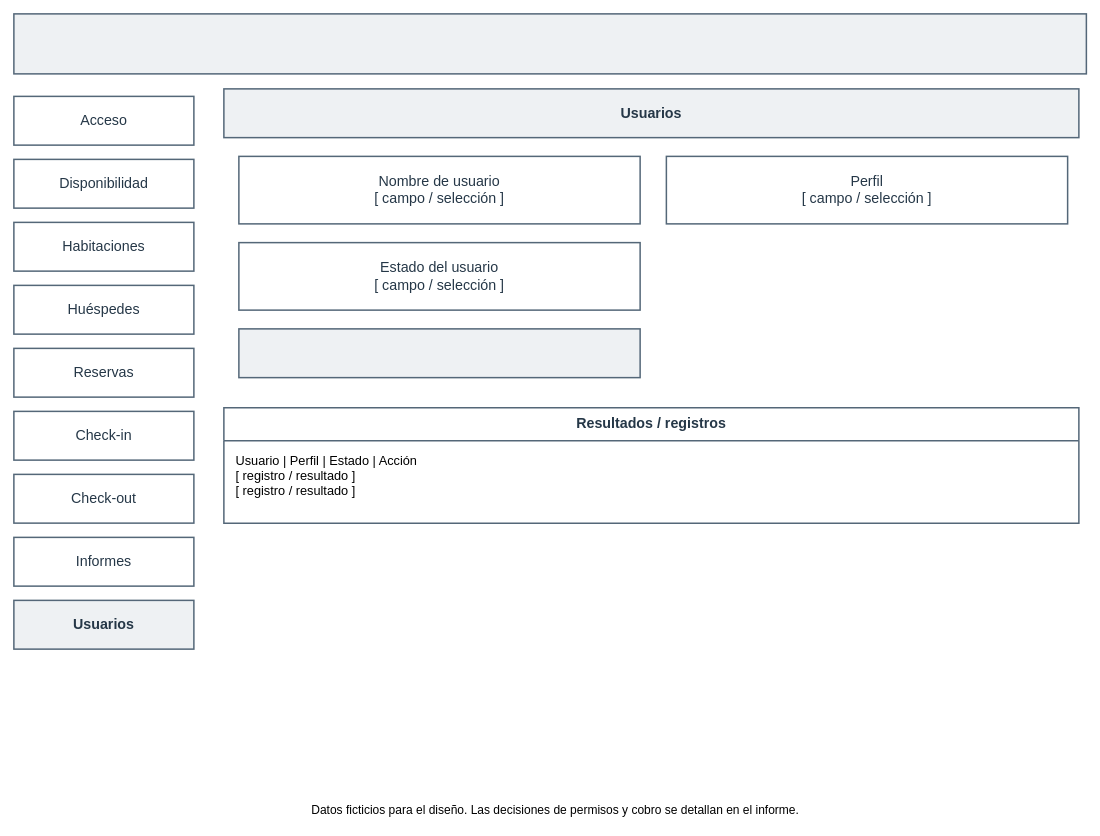
The diagram is 1100 pixels wide and 836 high, and some of its shapes have lost their labels. Here are the shapes that lost their labels. From the top down, the centre of each, then its label:
(550,43): Hotel Duerme Bien · Sistema de pasajeros
(439,353): Guardar usuario
